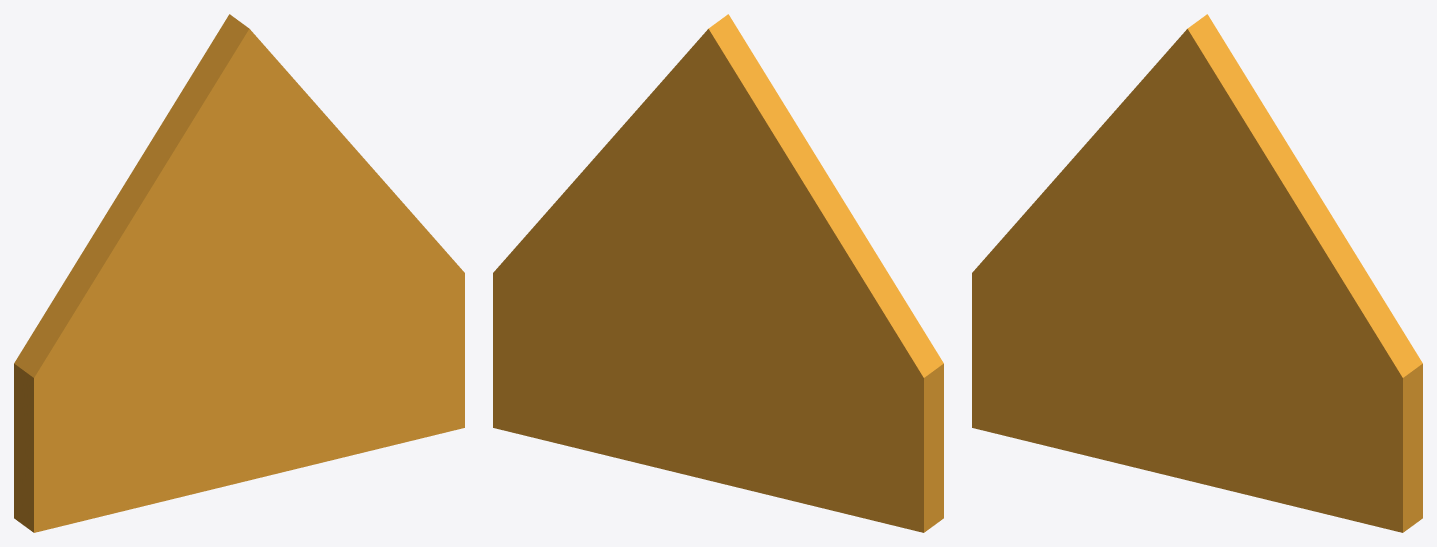
Rendered from Wall Up 3.fbx.
The picture shows the model from 3 angles, left to right: view 1: azimuth 30°, elevation 25°; view 2: azimuth 150°, elevation 25°; view 3: azimuth 330°, elevation 25°; orthographic projection.
Visible parts, largest first — view 1: Wall Up 3; view 2: Wall Up 3; view 3: Wall Up 3.
Boxes of the visible parts, bbox=[...] form: Wall Up 3: bbox=[14, 14, 464, 532]; Wall Up 3: bbox=[493, 14, 943, 532]; Wall Up 3: bbox=[972, 14, 1422, 532].
Size of the model in its own units: 249 by 249 by 20.
1 material, 1 textured.
